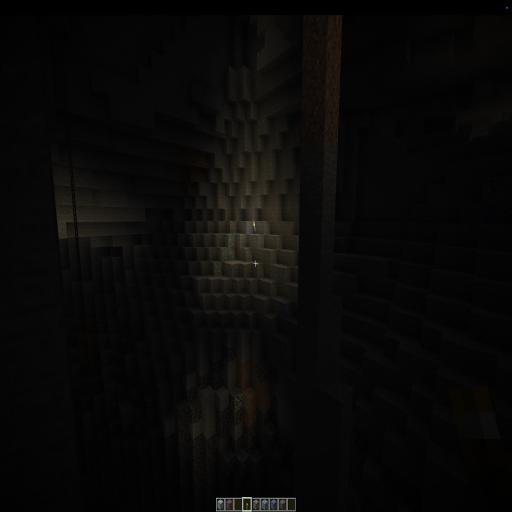diamond ore: (216, 231, 236, 261)
